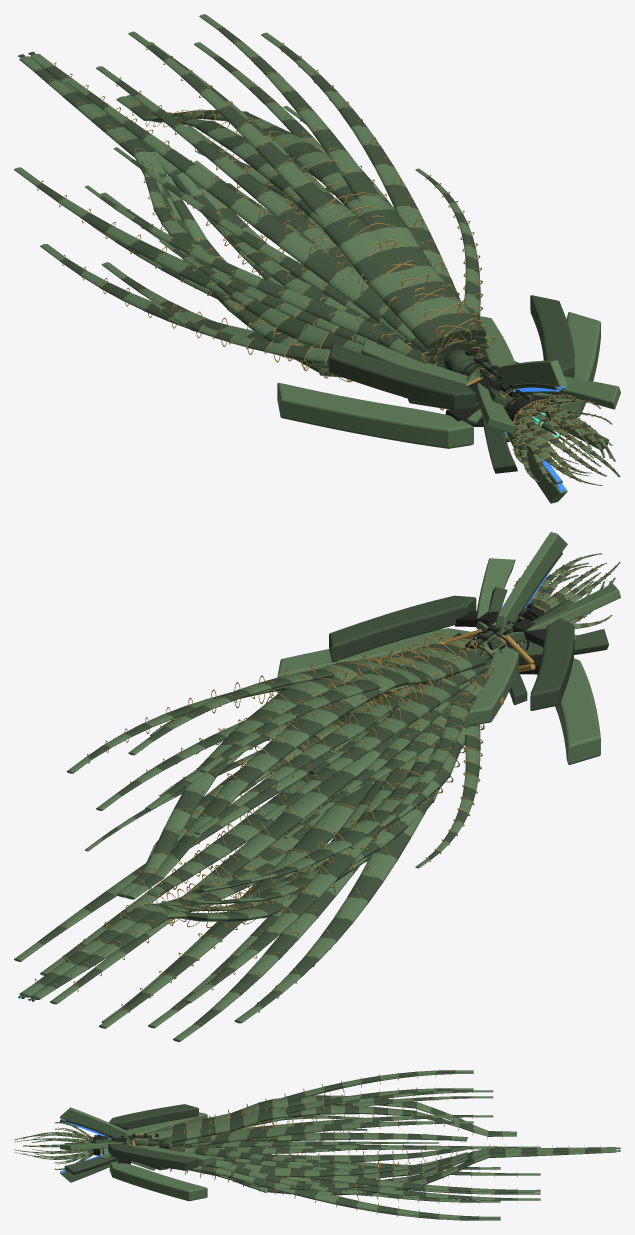
The model's file is kharath-destroyer-lod0.glb.
The picture shows the model from 3 angles, top to bottom: view 1: azimuth 30°, elevation 25°; view 2: azimuth 150°, elevation 25°; view 3: azimuth 270°, elevation 25°; orthographic projection. The views are drawn at different scales.
Size of the model in its own units: 56.83 by 43.46 by 179.
